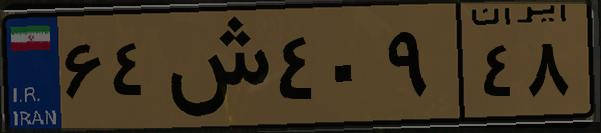0: (330, 28, 385, 110)
4: (270, 28, 330, 110), (475, 38, 525, 113), (110, 28, 158, 98)
6: (57, 26, 110, 100)
8: (525, 38, 570, 115)
9: (385, 28, 445, 110)
ش: (158, 12, 270, 120)
